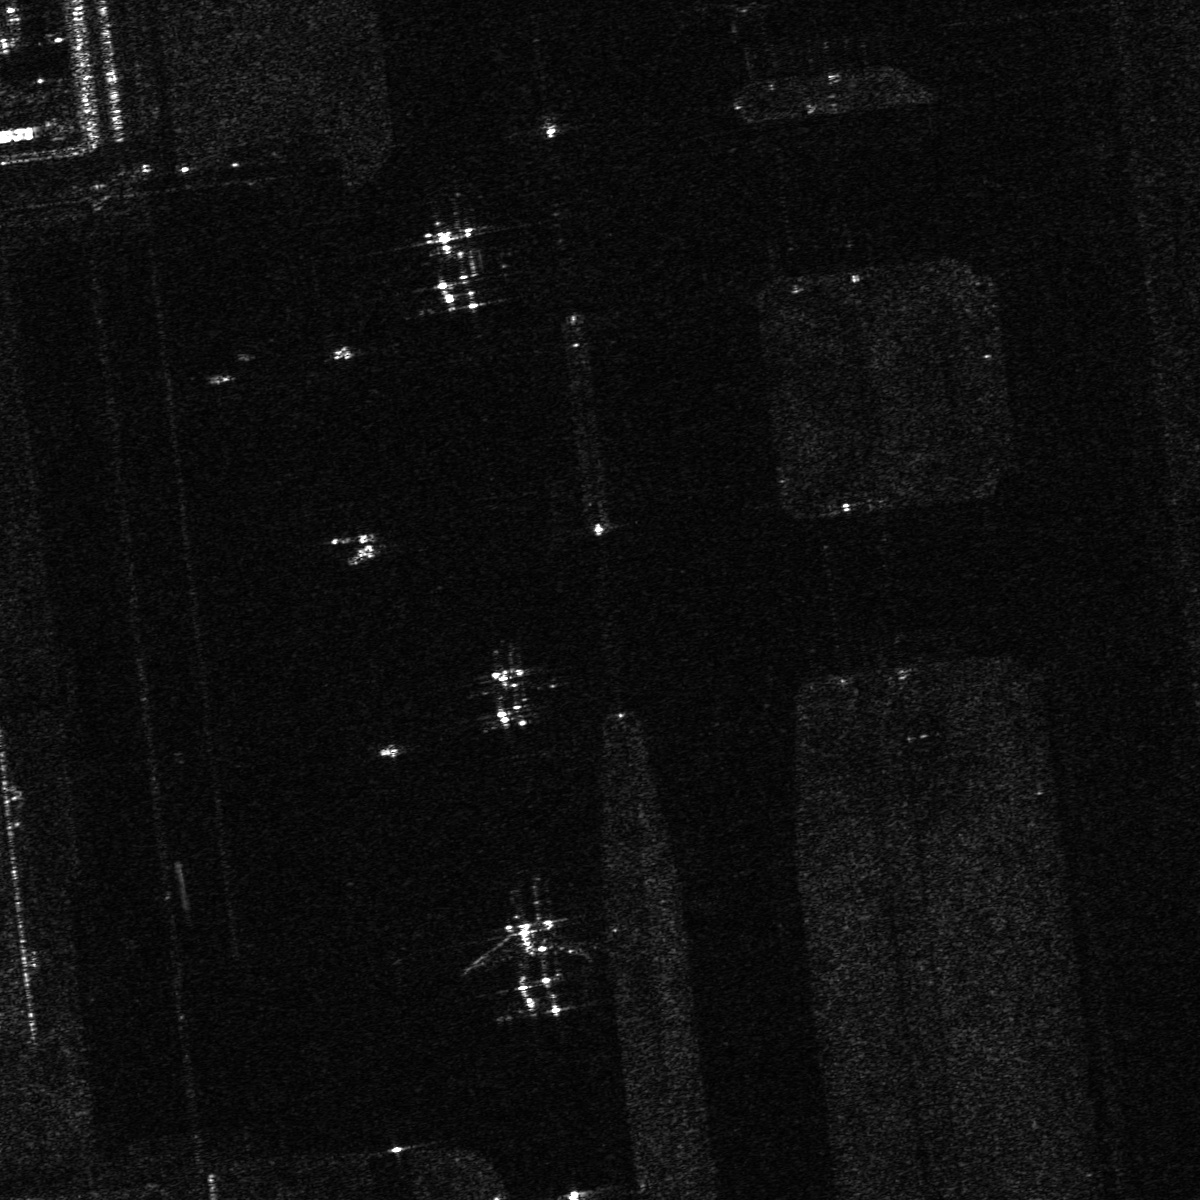Boeing787: (459, 636, 559, 734)
other: (462, 895, 599, 1022), (380, 202, 515, 322)
